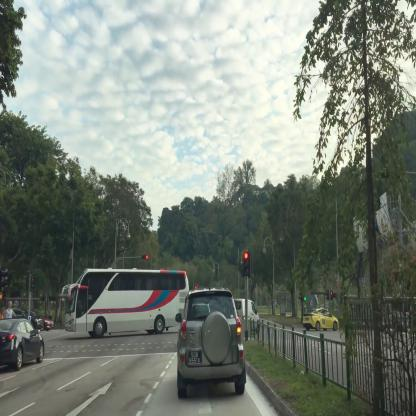red_traffic_light: (244, 252, 249, 276), (141, 255, 148, 259)
